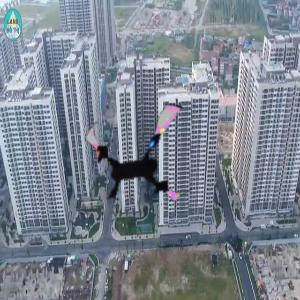drone: (80, 93, 206, 219)
